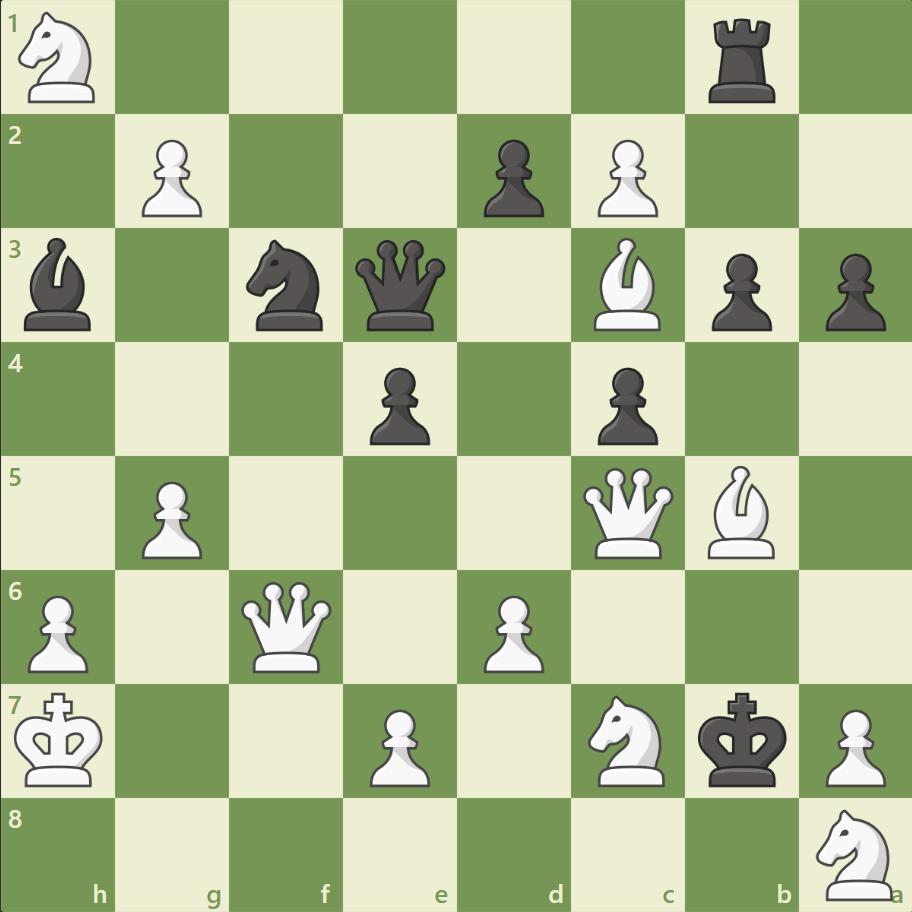B: (698, 460, 782, 563), (585, 233, 669, 336)
K: (11, 685, 111, 793)
N: (579, 688, 676, 791), (11, 7, 108, 110), (806, 802, 903, 904)
P: (474, 586, 549, 677), (20, 586, 95, 677), (133, 473, 208, 564), (133, 132, 208, 223), (815, 700, 889, 791), (361, 700, 435, 791), (588, 132, 662, 223)
Q: (237, 576, 336, 676), (578, 463, 677, 562)
b: (17, 233, 101, 336)
k: (692, 685, 792, 793)
n: (238, 234, 335, 337)
p: (701, 246, 776, 337), (474, 132, 549, 223), (588, 359, 662, 450), (361, 359, 435, 450), (815, 246, 889, 337)
q: (351, 236, 450, 335)
r: (700, 12, 783, 109)
